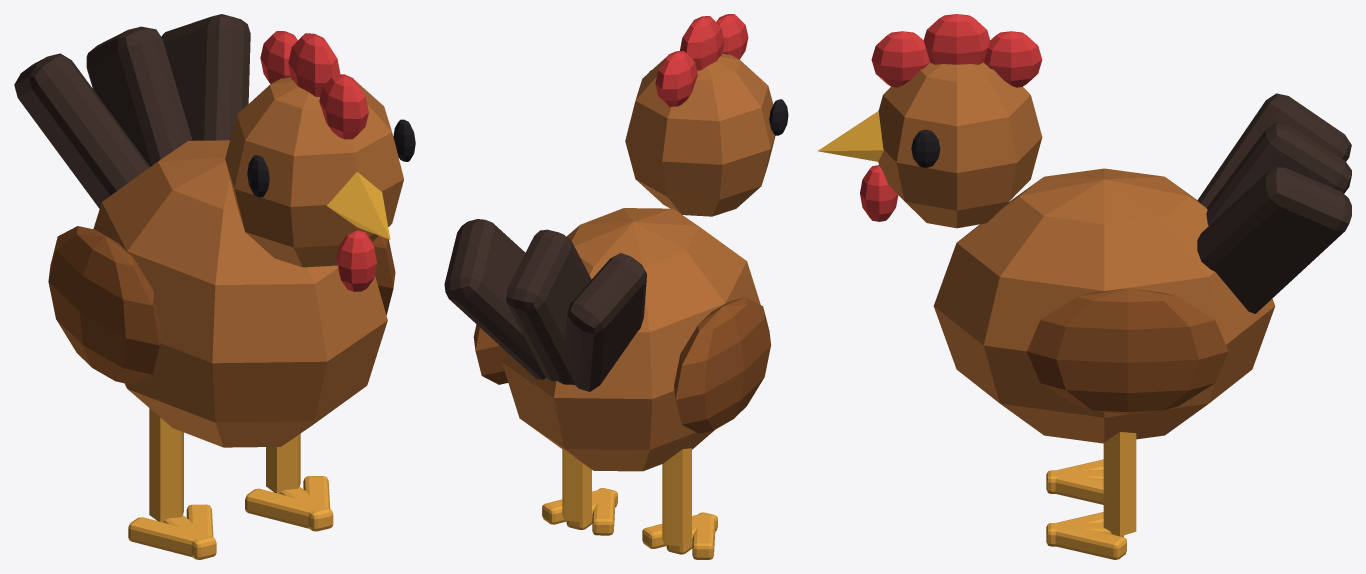
Rendered from chicken_brown.glb.
The picture shows the model from 3 angles, left to right: view 1: azimuth 30°, elevation 25°; view 2: azimuth 150°, elevation 25°; view 3: azimuth 270°, elevation 25°; orthographic projection. The views are drawn at different scales.
Visible parts, largest first — view 1: body_mesh, head_mesh, wing_r_mesh, leg_r_mesh, leg_l_mesh, wing_l_mesh; view 2: body_mesh, head_mesh, wing_r_mesh, leg_r_mesh, leg_l_mesh, wing_l_mesh; view 3: body_mesh, head_mesh, wing_l_mesh, leg_l_mesh, leg_r_mesh.
Boxes of the visible parts, x1,y1,x2,y2 form: body_mesh: [14, 14, 387, 447]; head_mesh: [225, 31, 415, 291]; wing_r_mesh: [48, 226, 161, 384]; leg_r_mesh: [128, 408, 216, 559]; leg_l_mesh: [245, 433, 333, 531]; wing_l_mesh: [372, 235, 395, 315]; body_mesh: [444, 208, 760, 471]; head_mesh: [625, 14, 788, 216]; wing_r_mesh: [674, 297, 770, 433]; leg_r_mesh: [642, 448, 717, 559]; leg_l_mesh: [542, 449, 617, 535]; wing_l_mesh: [473, 324, 508, 384]; body_mesh: [933, 93, 1351, 443]; head_mesh: [817, 14, 1042, 228]; wing_l_mesh: [1027, 288, 1228, 414]; leg_l_mesh: [1046, 432, 1136, 559]; leg_r_mesh: [1046, 459, 1103, 504].
Bounding box in the file's own units: 0.39 × 0.715 × 0.6885.
